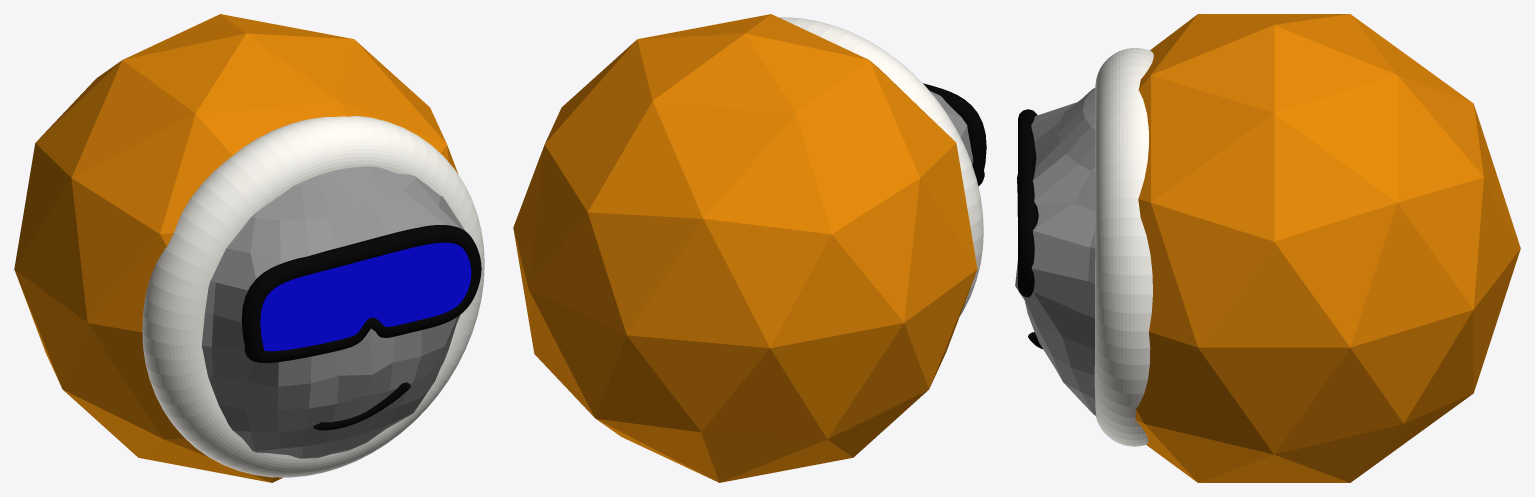
File: Лыжник.glb
3 renders of one model, left to right at view 1: azimuth 30°, elevation 25°; view 2: azimuth 150°, elevation 25°; view 3: azimuth 270°, elevation 25°, orthographic. The views are drawn at different scales.
Visible parts, largest first — view 1: Икосфера, Сфера, Torus, Окружность.001, ТраекторияNurbs, КриваяNurbs; view 2: Икосфера, Torus, ТраекторияNurbs, Сфера; view 3: Икосфера, Torus, Сфера, ТраекторияNurbs.
Part boxes in pixels (x1=…): Икосфера: x1=14, y1=14, x2=458, y2=482; Сфера: x1=201, y1=166, x2=465, y2=458; Torus: x1=142, y1=116, x2=484, y2=477; Окружность.001: x1=260, y1=242, x2=471, y2=351; ТраекторияNurbs: x1=241, y1=225, x2=481, y2=363; КриваяNurbs: x1=313, y1=382, x2=410, y2=430; Икосфера: x1=513, y1=14, x2=977, y2=482; Torus: x1=779, y1=17, x2=983, y2=315; ТраекторияNurbs: x1=923, y1=83, x2=986, y2=186; Сфера: x1=929, y1=90, x2=973, y2=165; Икосфера: x1=1135, y1=14, x2=1520, y2=482; Torus: x1=1094, y1=48, x2=1153, y2=446; Сфера: x1=1015, y1=88, x2=1096, y2=415; ТраекторияNurbs: x1=1017, y1=109, x2=1038, y2=297.
Bounding box in the file's own units: 0.5243 × 0.5513 × 0.5652.
